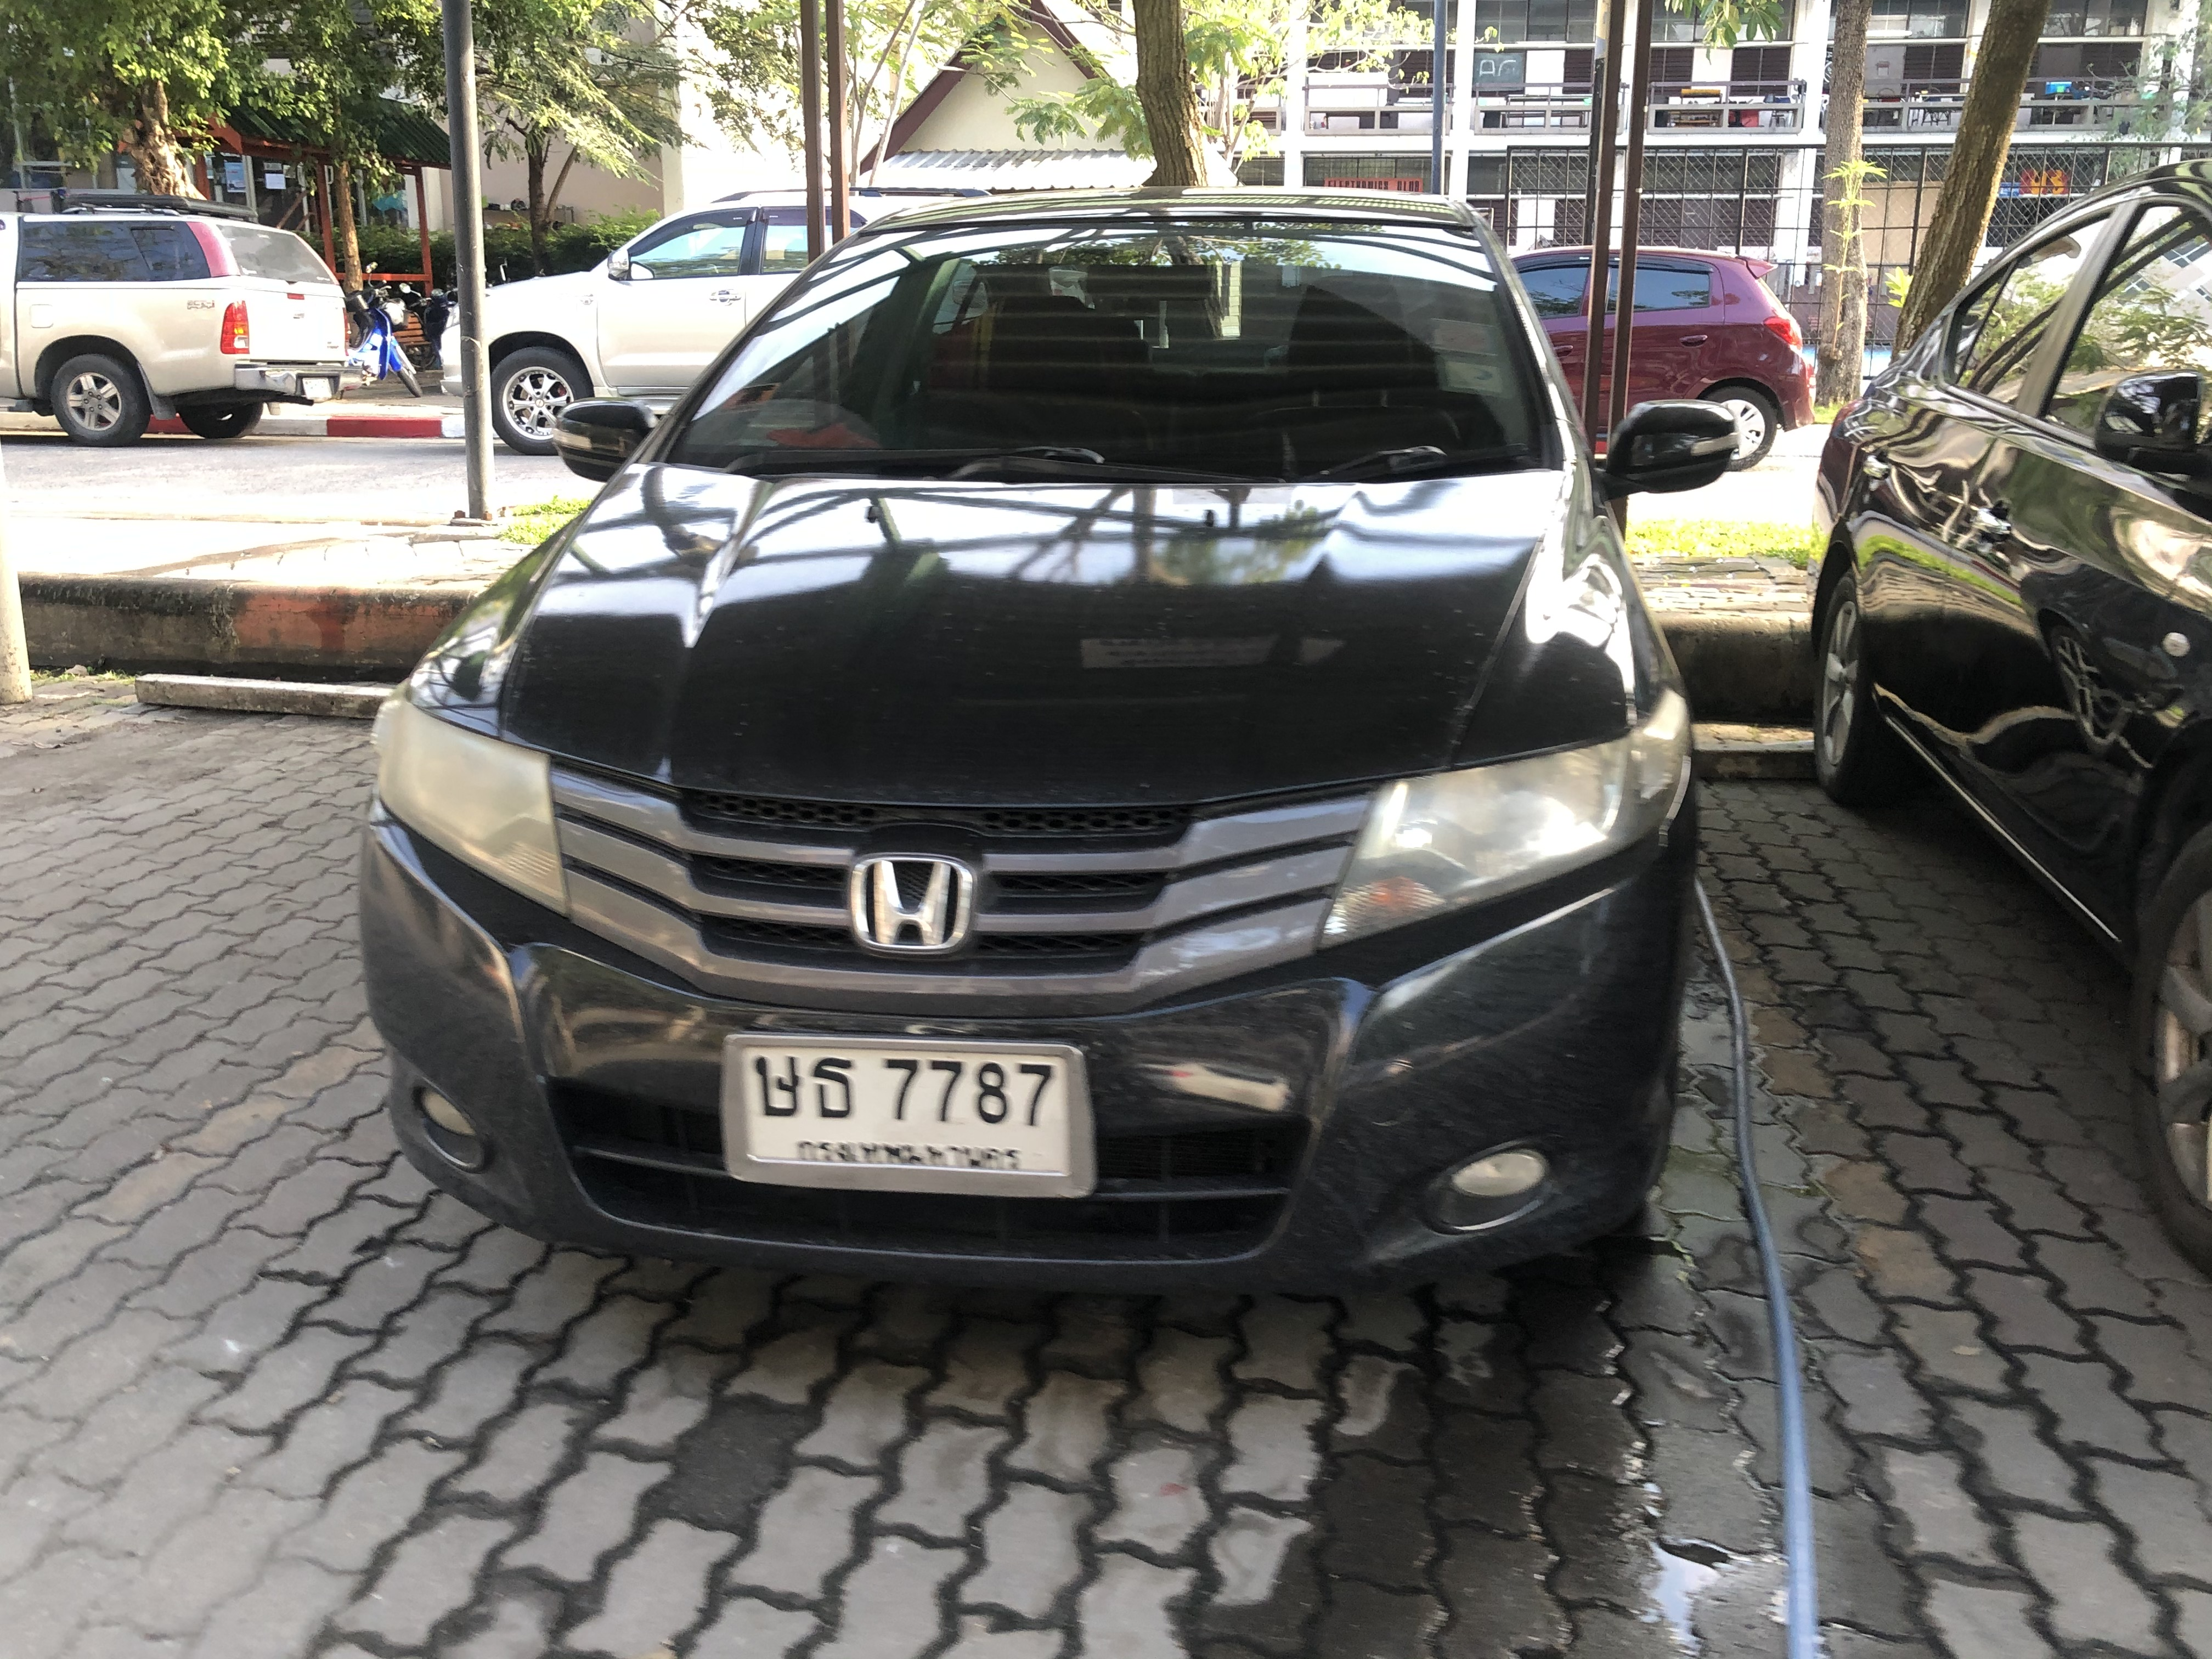in: (744, 1046, 1073, 1175)
out: (721, 1012, 1097, 1208)
